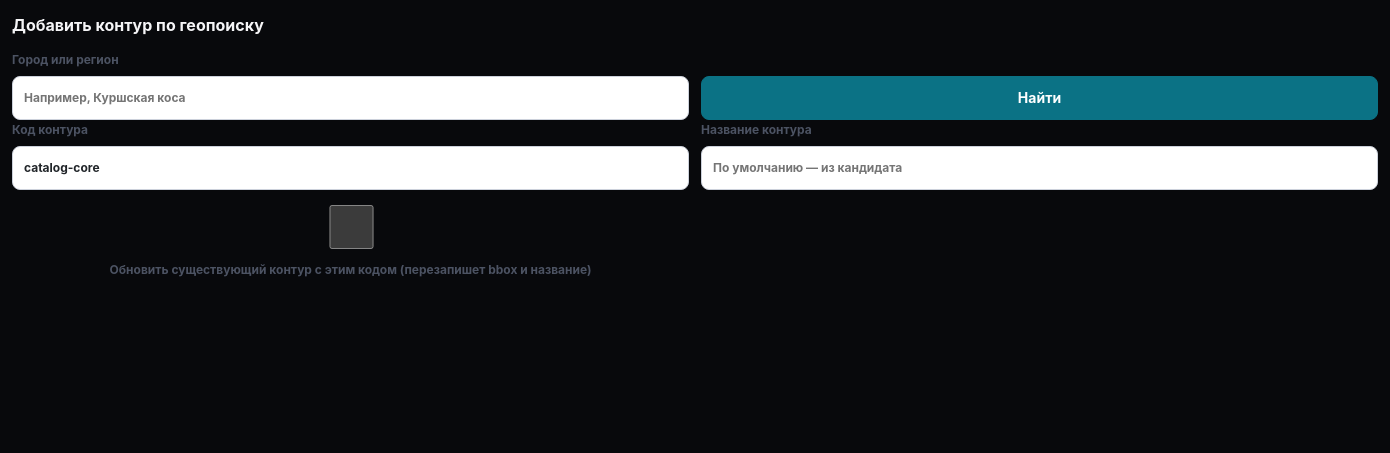
AdminDestinationGeoSearchPanel › creates scope from selected candidate with recover false by default
The width and height of the screenshot is (1390, 453).
Type "Калининград" into the field labelled "Город или регион" at (350, 98), box x1=12 y1=76 x2=689 y2=120
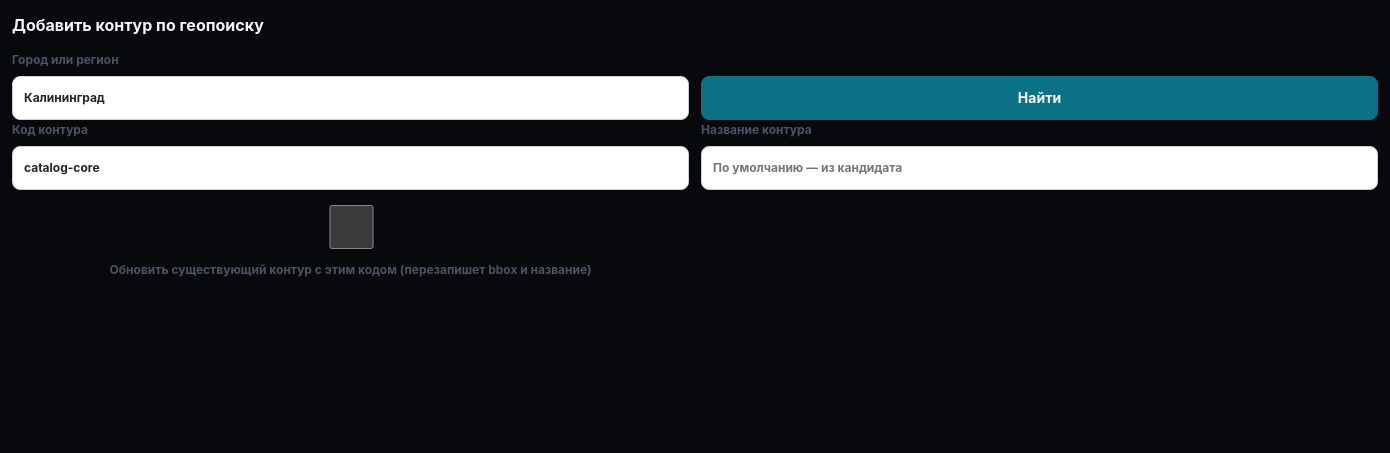
Click the button "Найти" at (1040, 98), box x1=701 y1=76 x2=1378 y2=120
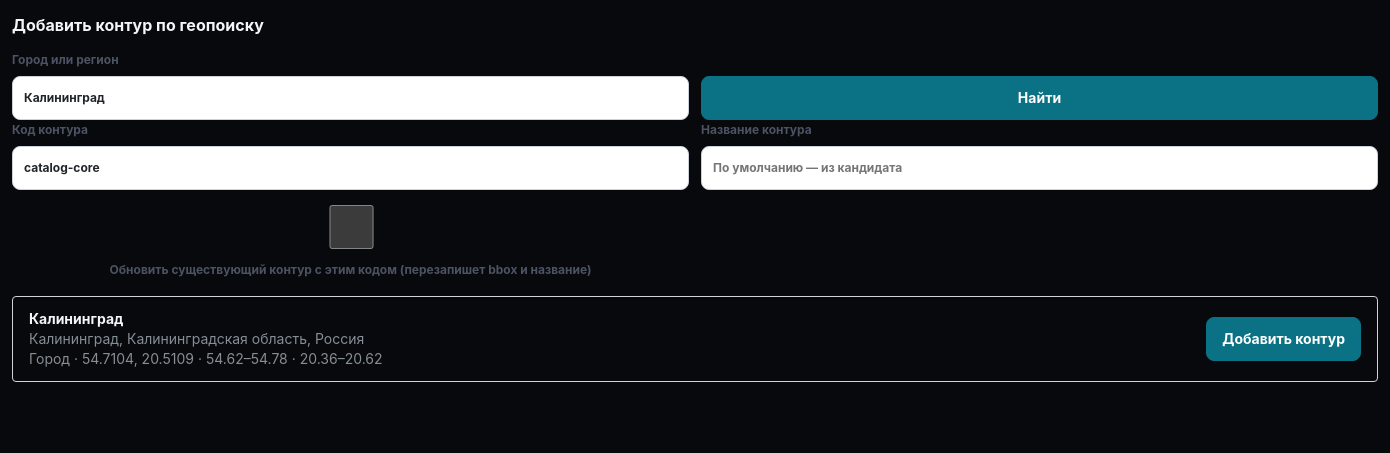
Expected: the button "Добавить контур" is enabled
Click the button "Добавить контур" at (1284, 339), box x1=1206 y1=317 x2=1361 y2=361
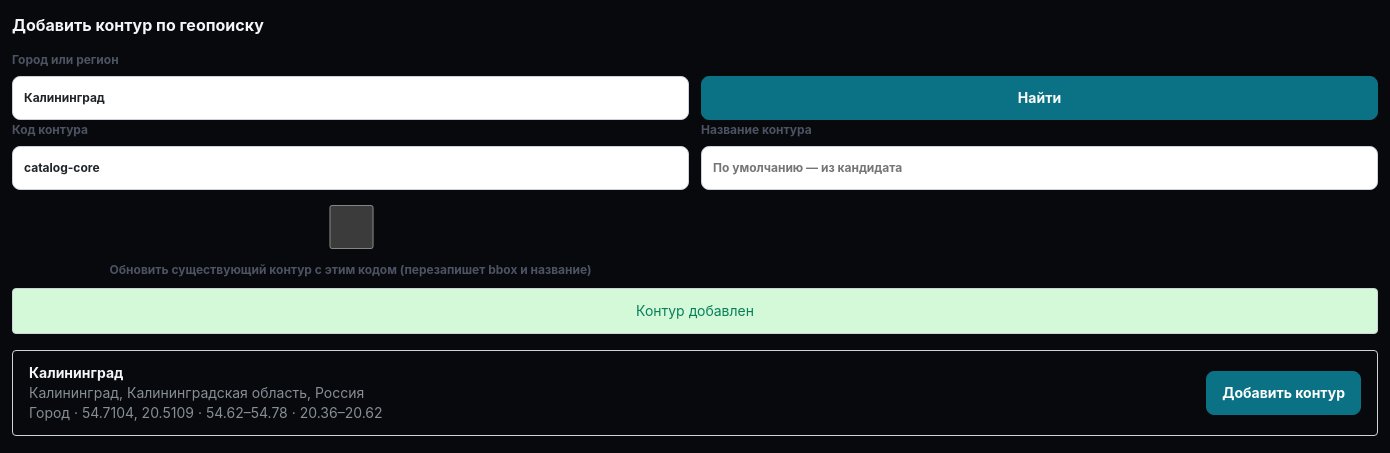
Expected: the text "Контур добавлен" is shown, x1=12 y1=288 x2=1378 y2=334
